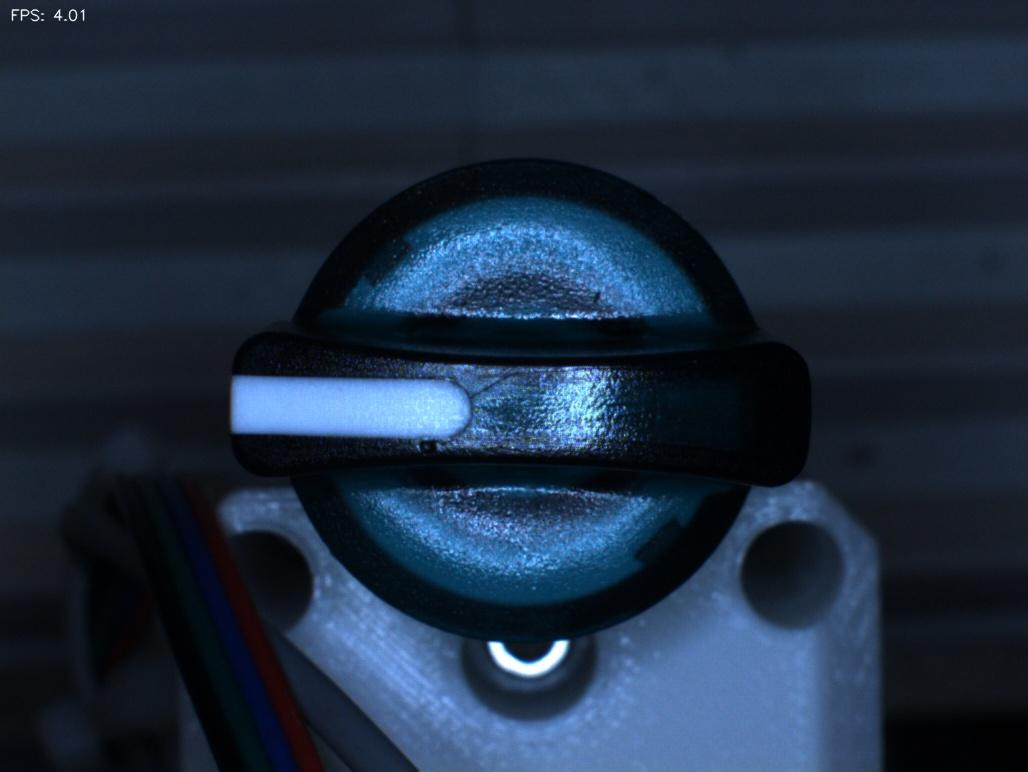Choc: (398, 408, 465, 477)
